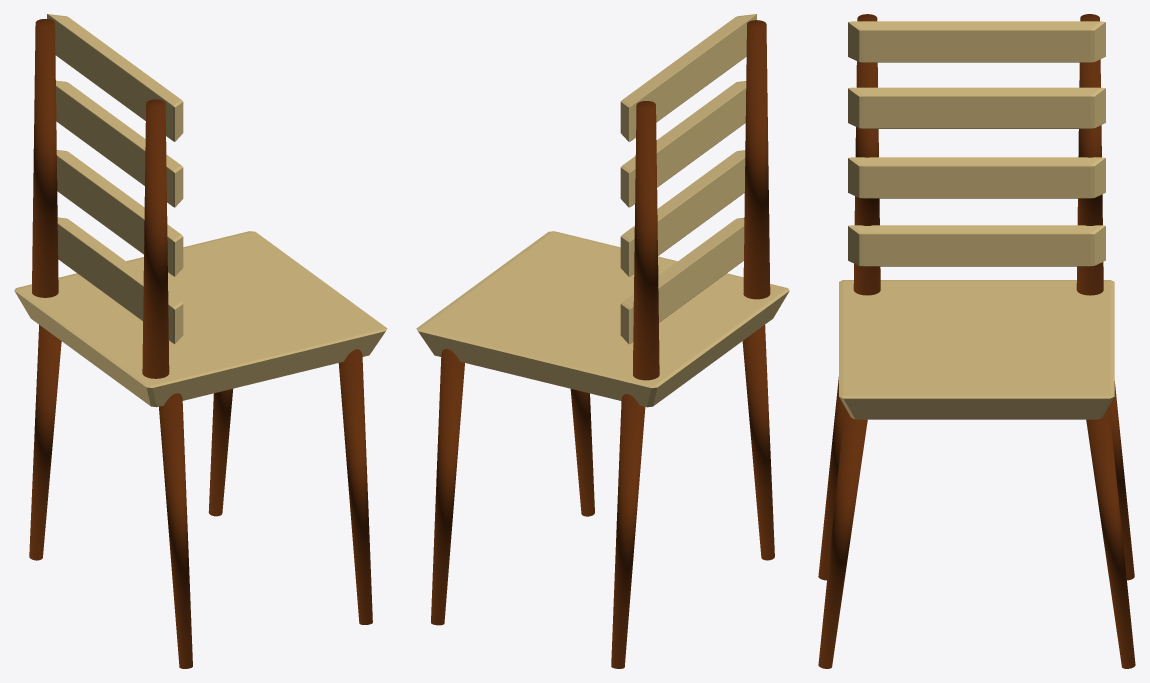
The model's file is Chair.fbx.
3 views of the same model, side by side, from view 1: azimuth 30°, elevation 25°; view 2: azimuth 150°, elevation 25°; view 3: azimuth 270°, elevation 25° (orthographic).
Parts seen in each view (by area): view 1: Chair; view 2: Chair; view 3: Chair.
Boxes of the visible parts, x1,y1,x2,y2 form: Chair: (14, 14, 387, 668); Chair: (416, 14, 789, 668); Chair: (818, 14, 1135, 668).
Size of the model in its own units: 134 by 294 by 152.
